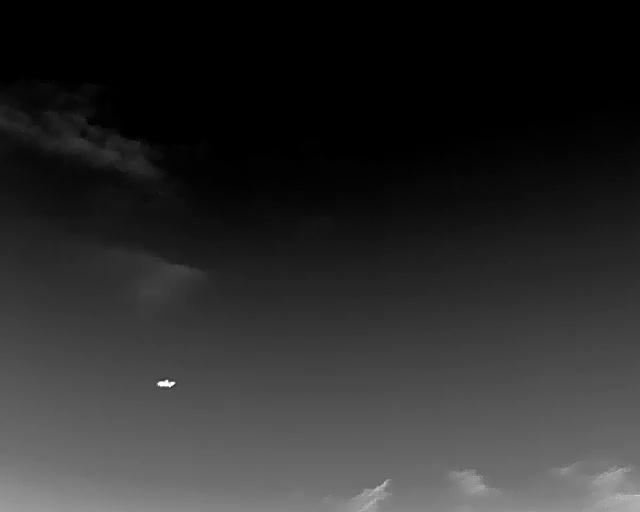fpv-drone: (157, 379, 175, 388)
